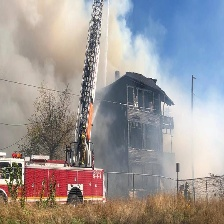smoke: (1, 1, 208, 182)
